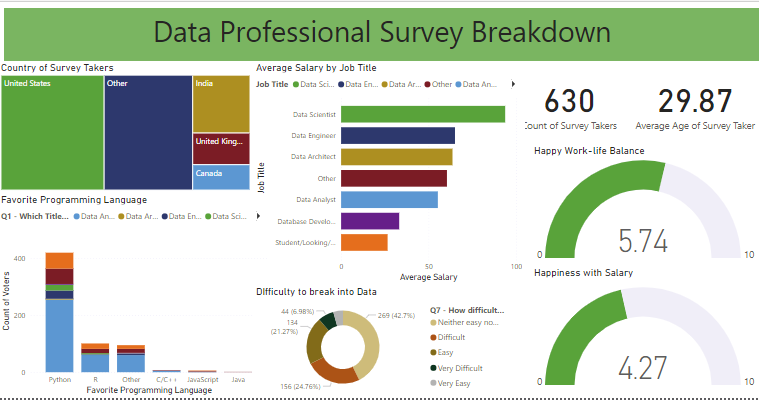

This screenshot's page, from the dashboard's own definition file:
{"tool":"powerbi","page":{"name":"Page 1","canvas":[1280,720],"ordinal":0},"visuals":[{"type":"textbox","box":[10.1,0,1269.9,129.3],"z":0},{"type":"textbox","box":[10.1,65.5,1269.9,89],"z":1000},{"type":"card","fields":{"Values":["Count(Data Professional Survey.Unique ID)"]},"box":[856.7,154.5,204.9,139.4],"z":2000},{"type":"card","fields":{"Values":["Avg(Data Professional Survey.Q10 - Current Age)"]},"box":[1061.6,154.5,218.4,139.4],"z":3000},{"type":"barChart","title":"Average Salary by Job Title","fields":{"Category":["Data Professional Survey.Q1 - Which Title Best Fits your Current Role?.1"],"Y":["Avg(Data Professional Survey.Average Salary)"],"Series":["Data Professional Survey.Q1 - Which Title Best Fits your Current Role?.1"]},"box":[428.3,154.5,456.9,376.3],"z":4000},{"type":"columnChart","title":"Favorite Programming Language","fields":{"Category":["Data Professional Survey.Q5 - Favorite Programming Language.1"],"Y":["CountNonNull(Data Professional Survey.Unique ID)"],"Series":["Data Professional Survey.Q1 - Which Title Best Fits your Current Role?.1"]},"box":[0,376.3,456.9,344.4],"z":5000},{"type":"treemap","title":"Country of Survey Takers","fields":{"Group":["Data Professional Survey.Q11 - Which Country do you live in?.1"],"Values":["CountNonNull(Data Professional Survey.Q11 - Which Country do you live in?.1)"]},"box":[0,154.5,428.3,221.7],"z":6000},{"type":"gauge","title":"Happy Work-life Balance","fields":{"Y":["Avg(Data Professional Survey.Q6 - How Happy are you in your Current Position with the following? (Work/Life Balance))"],"MinValue":["Min(Data Professional Survey.Q6 - How Happy are you in your Current Position with the following? (Work/Life Balance))1"],"MaxValue":["Max(Data Professional Survey.Q6 - How Happy are you in your Current Position with the following? (Work/Life Balance))2"]},"box":[895.3,294,384.7,204.9],"z":7000},{"type":"gauge","title":"Happiness with Salary","fields":{"Y":["Avg(Data Professional Survey.Q6 - How Happy are you in your Current Position with the following? (Salary))"],"MinValue":["Min(Data Professional Survey.Q6 - How Happy are you in your Current Position with the following? (Salary))"],"MaxValue":["Max(Data Professional Survey.Q6 - How Happy are you in your Current Position with the following? (Salary))1"]},"box":[895.3,498.9,384.7,221.7],"z":8000},{"type":"donutChart","title":"DIfficulty to break into Data ","fields":{"Category":["Data Professional Survey.Q7 - How difficult was it for you to break into Data?"],"Y":["CountNonNull(Data Professional Survey.Q7 - How difficult was it for you to break into Data?)"]},"box":[428.3,530.8,428.3,189.8],"z":9000}]}

Visuals, with their boxes on the page's 1280x720 design canvas (x1, y1, x2, y2). These are canvas units, not pixel positions in the 759x401 screenshot, which may show the page scaled, cropped or inside an application window:
textbox: <box>10,0,1280,129</box>
textbox: <box>10,66,1280,154</box>
card - Count(Data Professional Survey.Unique ID): <box>857,154,1062,294</box>
card - Avg(Data Professional Survey.Q10 - Current Age): <box>1062,154,1280,294</box>
"Average Salary by Job Title" barChart: <box>428,154,885,531</box>
"Favorite Programming Language" columnChart: <box>0,376,457,721</box>
"Country of Survey Takers" treemap: <box>0,154,428,376</box>
"Happy Work-life Balance" gauge: <box>895,294,1280,499</box>
"Happiness with Salary" gauge: <box>895,499,1280,721</box>
"DIfficulty to break into Data " donutChart: <box>428,531,857,721</box>
